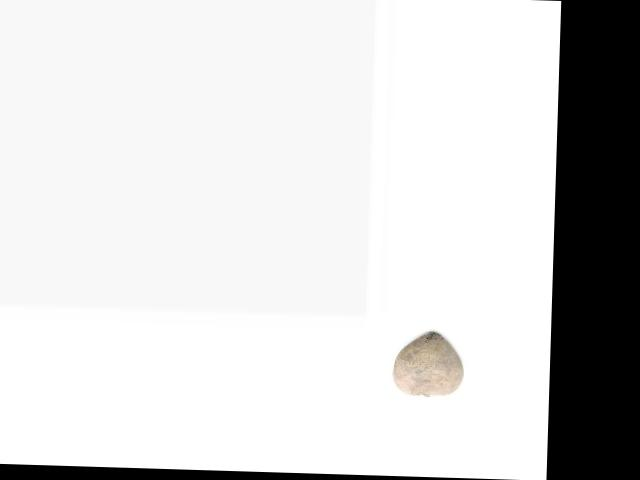beet: (391, 330, 464, 396)
